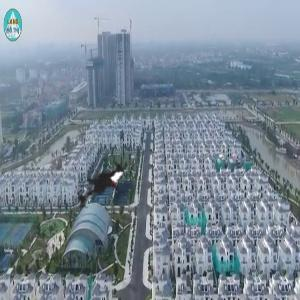drone: (58, 144, 152, 238)
